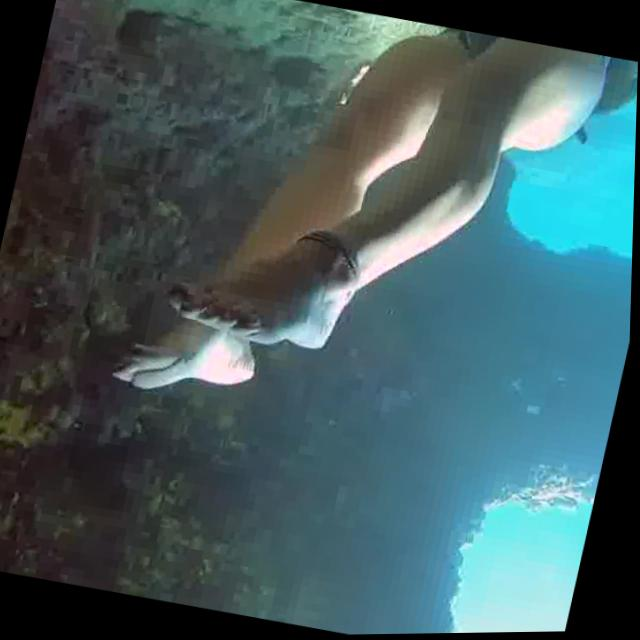human: (95, 0, 640, 495)
